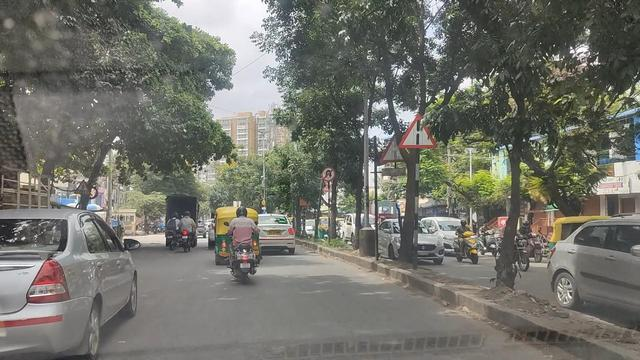LMV: (1, 197, 145, 352), (221, 209, 257, 284)
